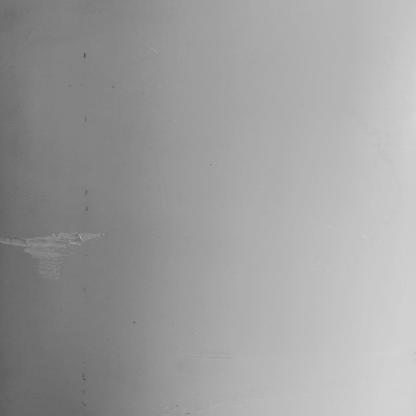sunshang: (1, 230, 110, 284)
